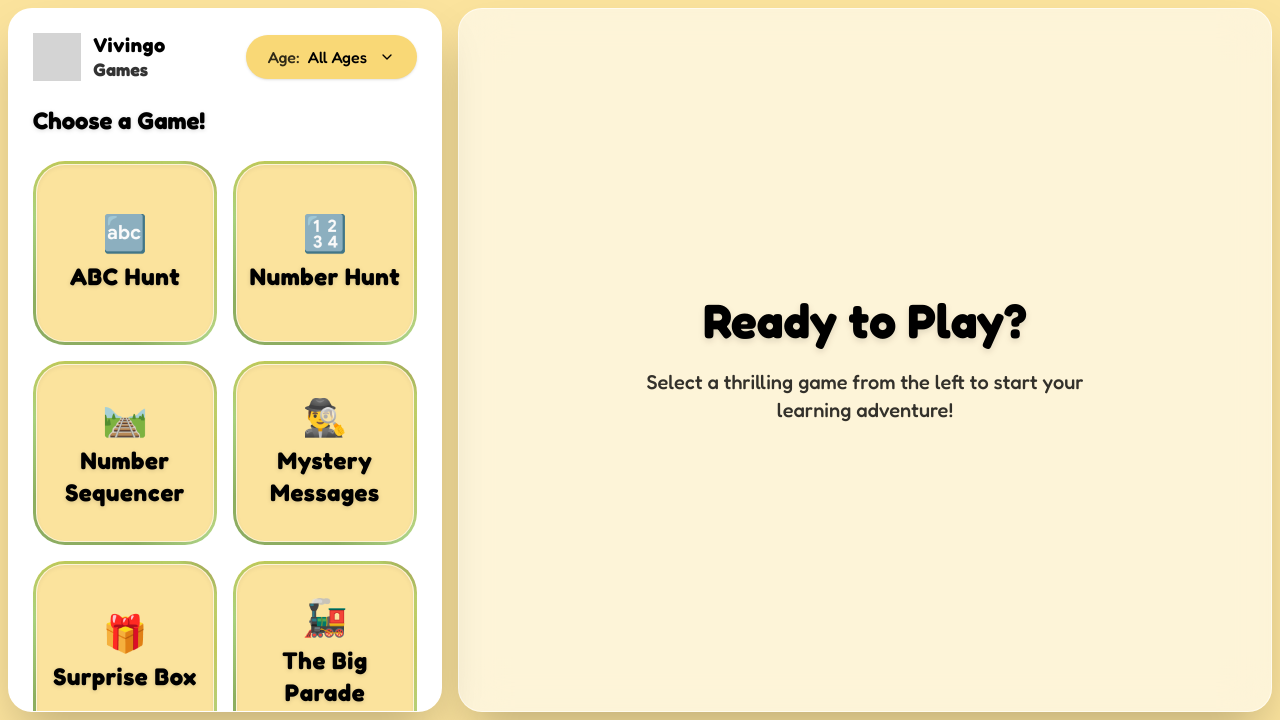
Test: App Integration › should show the default greeting and then switch to the actual game component
Expected: the heading "Ready to Play?" is shown, [703, 291, 1027, 349]
Note: Act: Find the "Mystery Messages" card and click it
Click the text "Mystery Messages".
click(325, 476)  # box [270, 446, 380, 507]
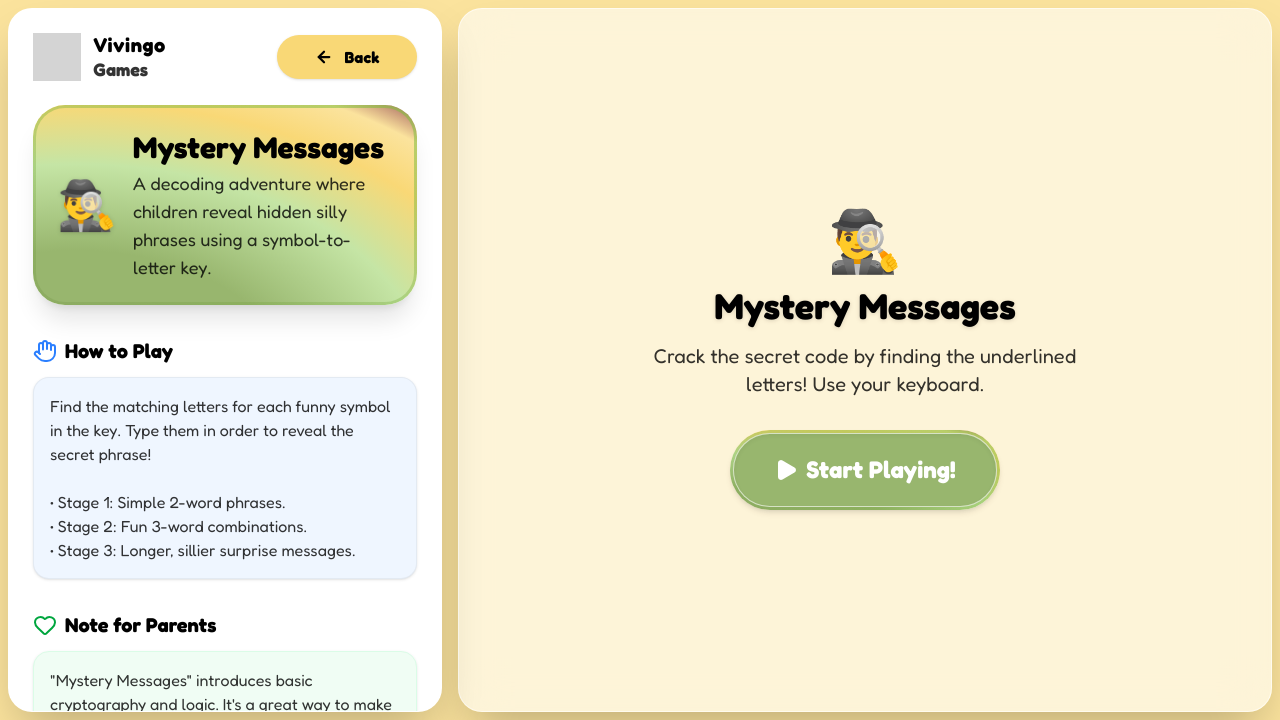
Expected: the heading "Ready to Play?" is gone
Expected: the text "Start Playing!" is shown, [774, 454, 956, 486]
